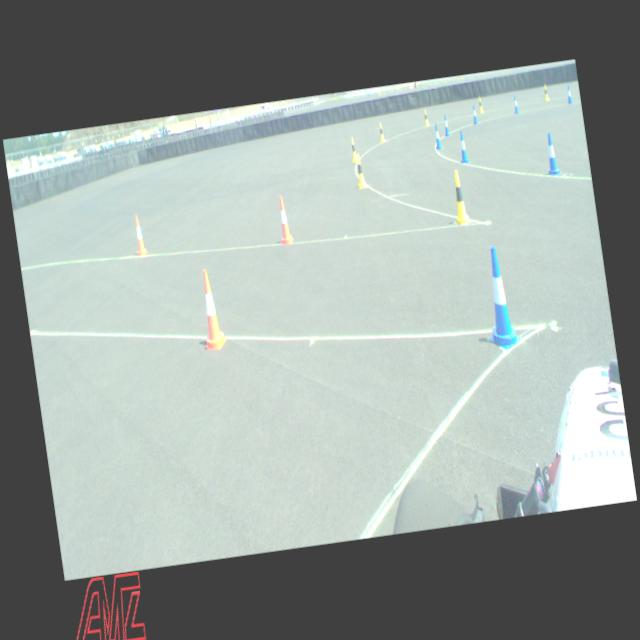blue_cone: (476, 245, 522, 352), (543, 132, 560, 176), (457, 131, 469, 163), (433, 124, 442, 150), (442, 114, 450, 136), (513, 95, 519, 114), (472, 105, 478, 124), (566, 85, 572, 104)
orange_cone: (195, 268, 228, 350), (274, 196, 294, 244), (132, 214, 148, 256)
yellow_cone: (448, 170, 471, 226), (354, 153, 367, 189), (350, 137, 358, 162), (378, 122, 385, 142), (423, 109, 430, 126), (544, 85, 550, 101), (478, 96, 483, 112)
